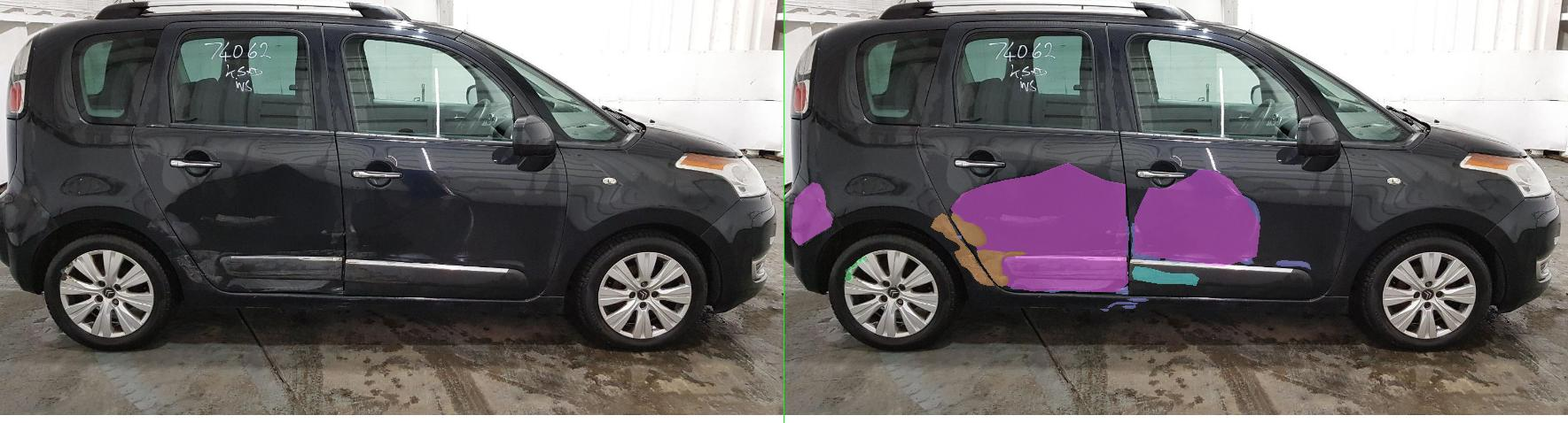Broken part: (121, 257, 165, 281)
Dent: (332, 163, 686, 291), (701, 169, 951, 265), (14, 182, 96, 245)
Flaking: (451, 262, 686, 279), (695, 266, 828, 285)
Paint chip: (293, 213, 419, 285), (385, 250, 482, 286), (333, 213, 403, 246)
Scratch: (876, 178, 951, 264), (550, 217, 688, 257), (452, 279, 658, 292), (694, 223, 754, 260), (399, 214, 561, 224), (761, 253, 871, 263), (983, 260, 1052, 269), (646, 302, 706, 307), (663, 286, 686, 294), (686, 298, 727, 301), (369, 265, 396, 269), (676, 305, 702, 308), (328, 235, 353, 238), (631, 309, 647, 311), (364, 255, 380, 257), (390, 271, 401, 273), (346, 257, 362, 258), (374, 264, 387, 265)
